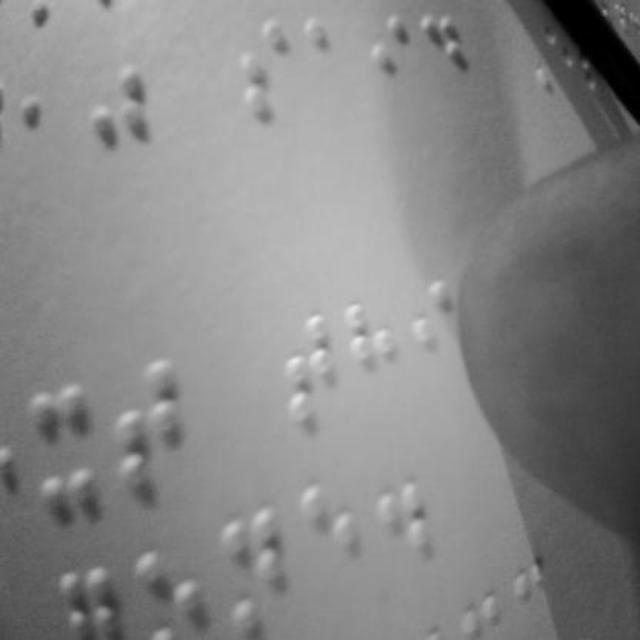braiile: (24, 378, 100, 524), (118, 354, 192, 496), (218, 492, 286, 640), (300, 470, 364, 594), (18, 50, 82, 168), (278, 305, 339, 423), (233, 17, 294, 132), (341, 294, 399, 410), (417, 6, 469, 110), (299, 9, 351, 107), (364, 12, 412, 112)
